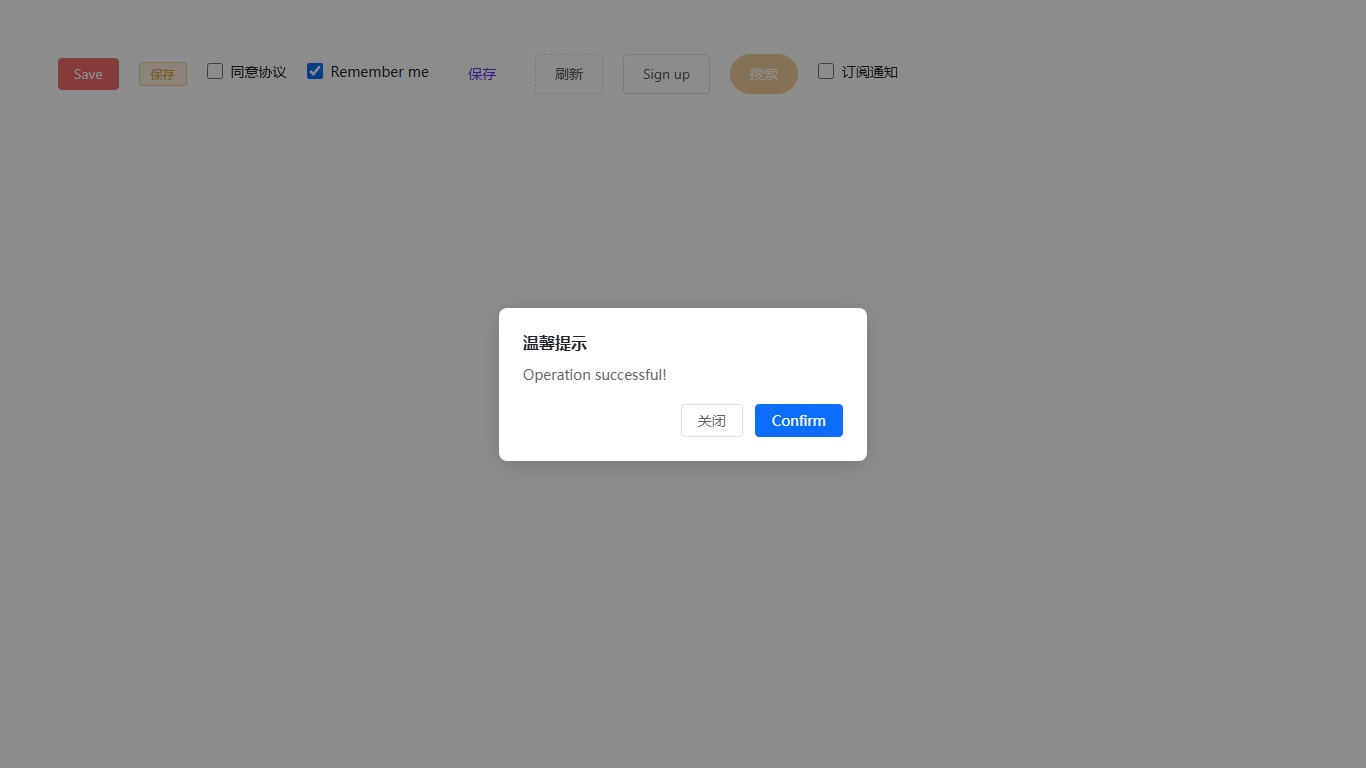button: (623, 54, 710, 94), (755, 403, 843, 437), (535, 54, 603, 94), (730, 54, 798, 94), (449, 55, 515, 93), (681, 403, 743, 437), (58, 58, 119, 90), (139, 62, 187, 86)
checkbox: (207, 63, 223, 79), (307, 63, 323, 79), (818, 63, 834, 79)
icon: (331, 61, 429, 81), (231, 61, 287, 81), (842, 61, 898, 81)
modal: (0, 0, 1366, 768)
radio: (307, 61, 429, 81), (207, 61, 287, 81), (818, 61, 898, 81)
